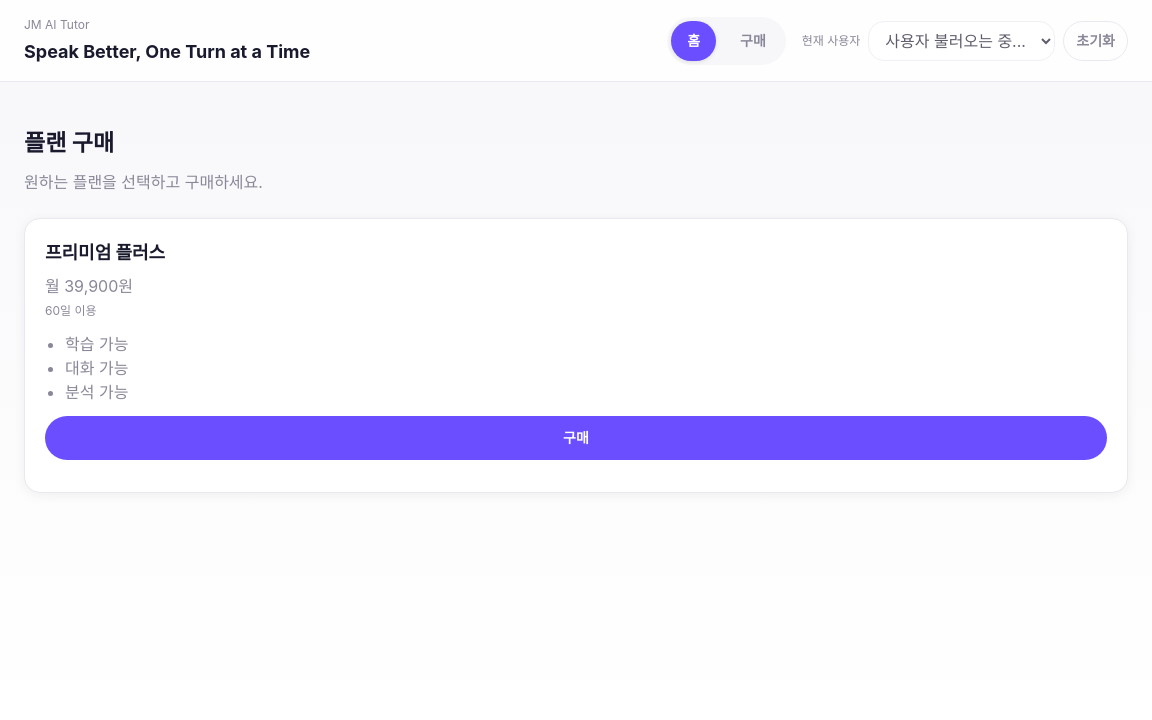
PlansPage › 플랜 구매 클릭 시 PaymentModal이 열려요
Click the button "구매": [576, 438] box [45,416,1107,460]
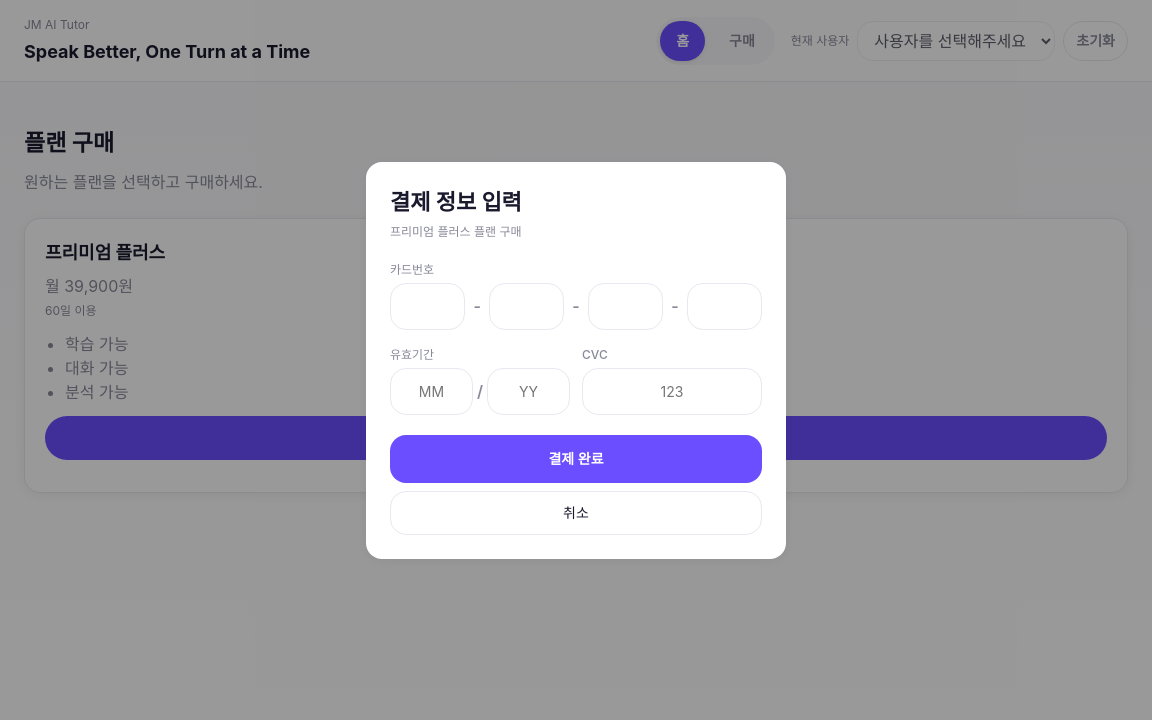
Expected: the heading "결제 정보 입력" is shown, [390,188,522,214]
